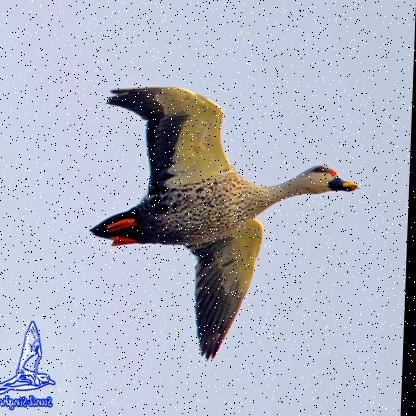Burung: (89, 88, 363, 358)
